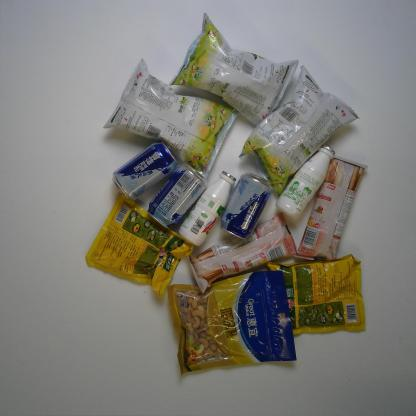Alcohol: (110, 143, 177, 209), (147, 163, 207, 228), (223, 170, 270, 244)
Dessert: (186, 212, 297, 295), (297, 155, 367, 263)
Dried Fruit: (167, 265, 298, 377)
Milk: (270, 145, 336, 219), (178, 169, 234, 248)
Puffed Food: (238, 63, 358, 194), (106, 61, 237, 179), (173, 12, 299, 129)
Seasoner: (88, 194, 191, 302), (267, 256, 365, 338)
